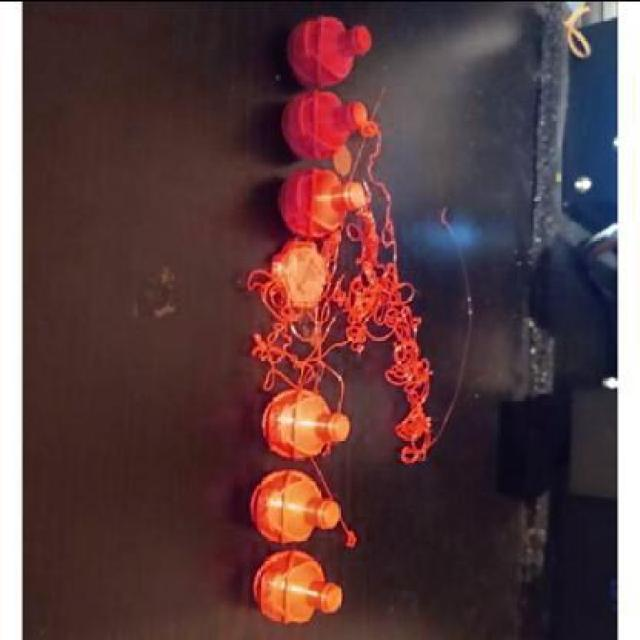spaghetti: (353, 120, 438, 462), (244, 225, 356, 393), (338, 515, 358, 550), (318, 438, 337, 460), (334, 390, 348, 416)
